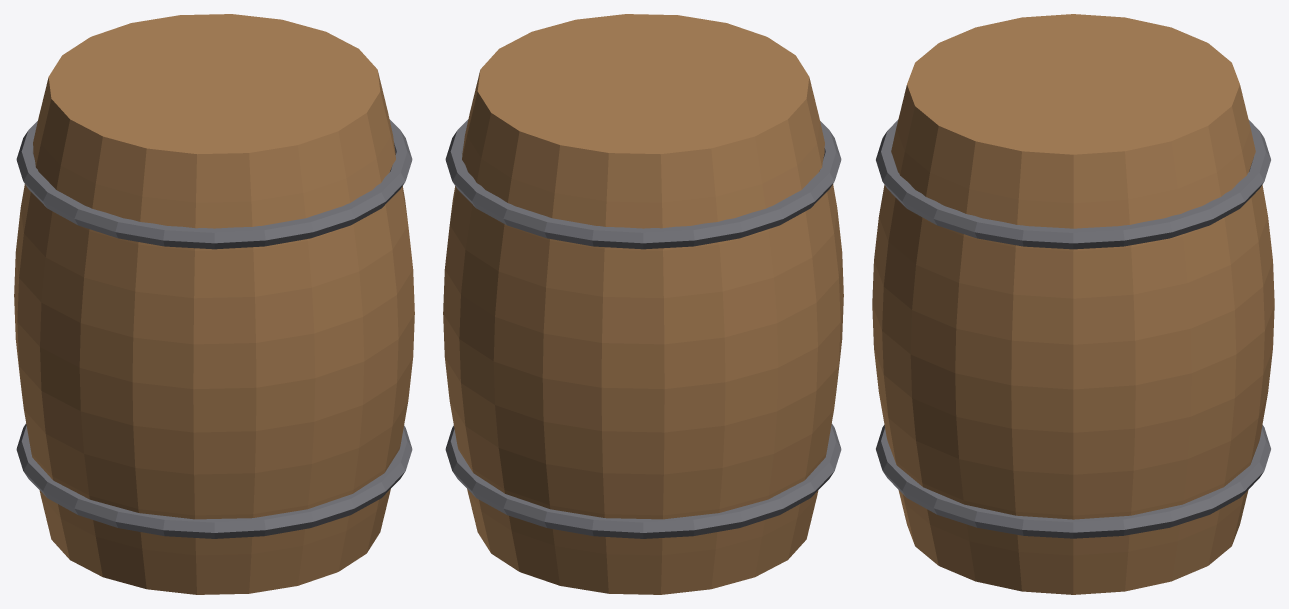
File: barrel.glb
3 renders of one model, left to right at view 1: azimuth 30°, elevation 25°; view 2: azimuth 150°, elevation 25°; view 3: azimuth 270°, elevation 25°, orthographic.
Visible parts, largest first — view 1: Barrel, Hoop0.58, Hoop0.12; view 2: Barrel, Hoop0.58, Hoop0.12; view 3: Barrel, Hoop0.58, Hoop0.12.
Boxes of the visible parts, <box> form: Barrel: <box>14,14,414,594</box>; Hoop0.58: <box>16,119,412,249</box>; Hoop0.12: <box>16,423,412,538</box>; Barrel: <box>443,14,843,594</box>; Hoop0.58: <box>445,119,841,249</box>; Hoop0.12: <box>445,423,841,538</box>; Barrel: <box>872,14,1274,594</box>; Hoop0.58: <box>876,120,1270,249</box>; Hoop0.12: <box>876,425,1270,538</box>.
Size of the model in its own units: 0.58 by 0.7 by 0.58.
